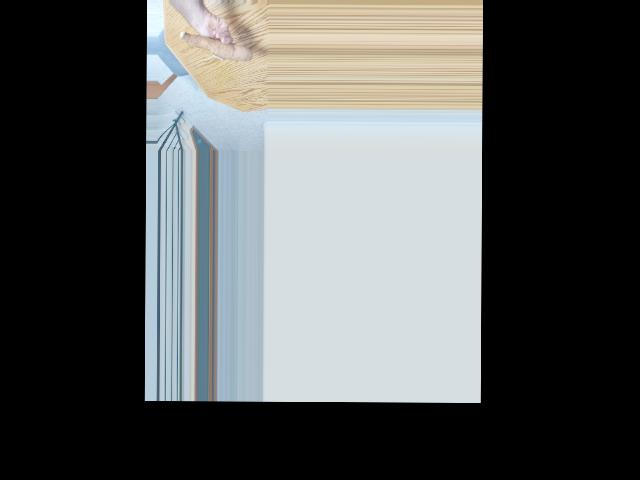sweet_potato: (180, 24, 249, 65)
